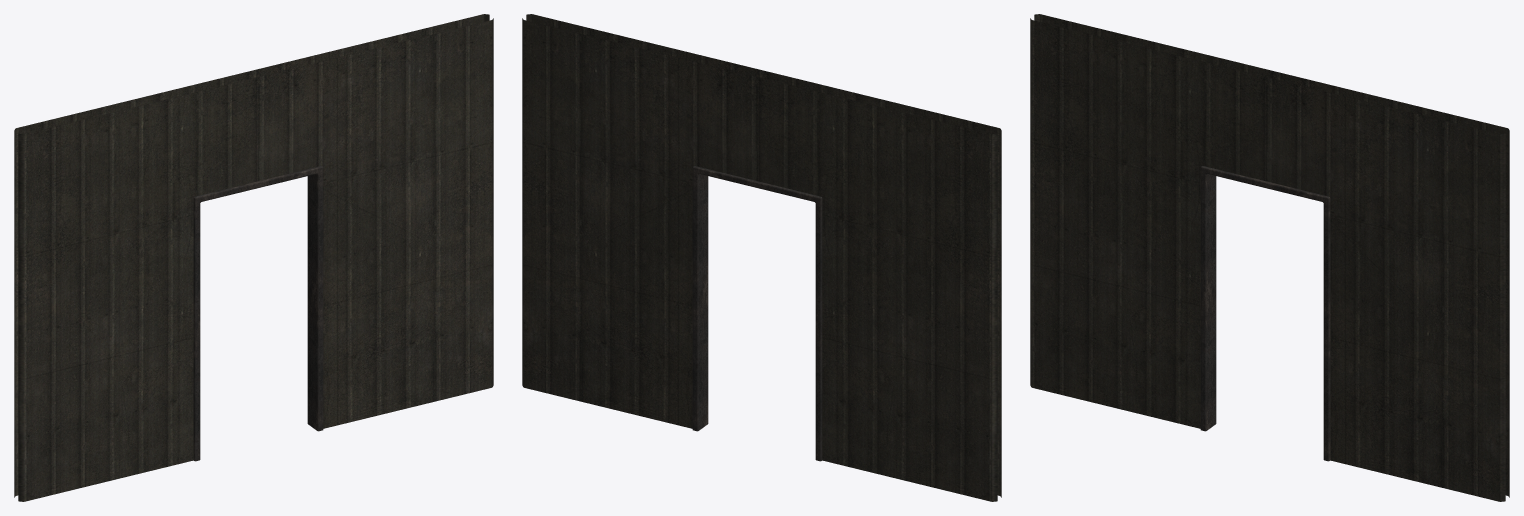
File: doorway_1_plain.fbx
3 views of the same model, side by side, from view 1: azimuth 30°, elevation 25°; view 2: azimuth 150°, elevation 25°; view 3: azimuth 330°, elevation 25° (orthographic).
Visible parts, largest first — view 1: doorway_1_plain; view 2: doorway_1_plain; view 3: doorway_1_plain.
Boxes of the visible parts, x1=… form: doorway_1_plain: x1=14, y1=14, x2=493, y2=501; doorway_1_plain: x1=522, y1=14, x2=1001, y2=501; doorway_1_plain: x1=1030, y1=14, x2=1509, y2=501.
Size of the model in its own units: 406 by 300 by 16.
